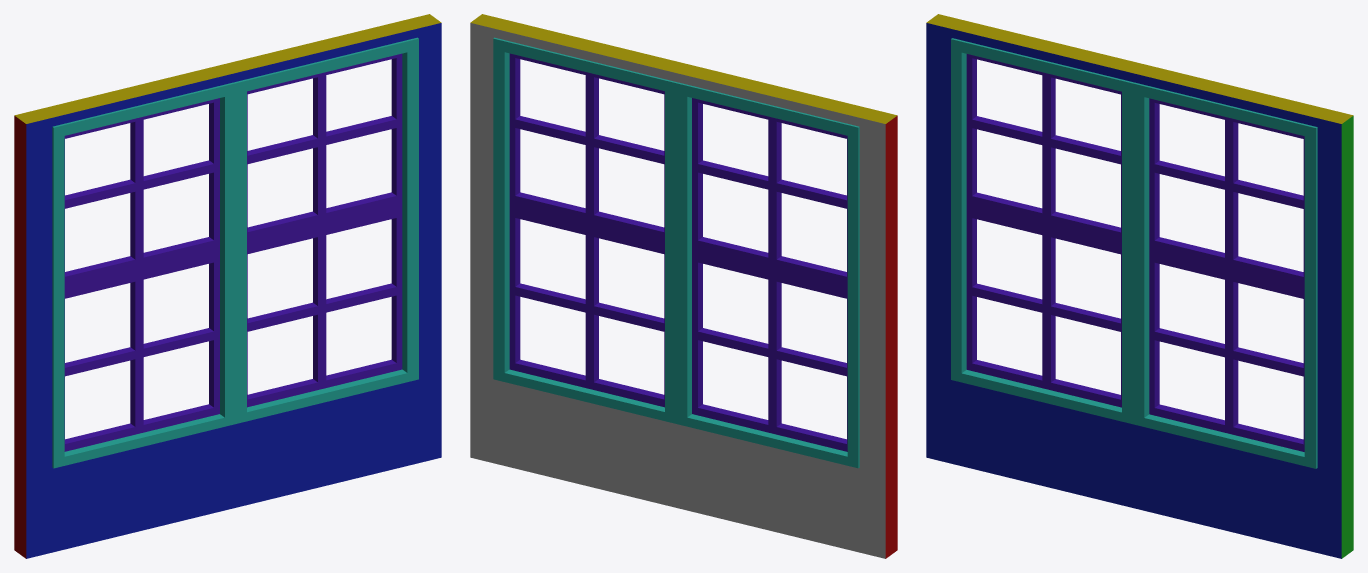
Rendered from Wall_Window_06c.fbx.
The picture shows the model from 3 angles, left to right: view 1: azimuth 30°, elevation 25°; view 2: azimuth 150°, elevation 25°; view 3: azimuth 330°, elevation 25°; orthographic projection.
Visible parts, largest first — view 1: Wall_Window_06c; view 2: Wall_Window_06c; view 3: Wall_Window_06c.
Boxes of the visible parts, box(x1,y1,x2,y2) form: Wall_Window_06c: box(14, 14, 441, 558); Wall_Window_06c: box(470, 14, 897, 558); Wall_Window_06c: box(926, 14, 1353, 558).
Size of the model in its own units: 3 by 0.1843 by 3.
